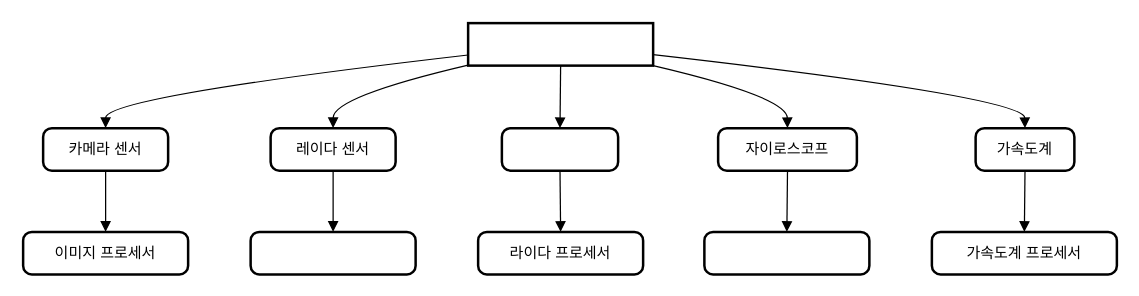
This 1139x296 diagram has some shape labels left out. Here are the shapes that lost their labels. From the top down, the centre of each, then its label:
At (x=560, y=43): "자율주행 전자부품".
At (x=559, y=148): "LiDAR 센서".
At (x=332, y=252): "레이다 프로세서".
At (x=786, y=252): "자이로 프로세서".
